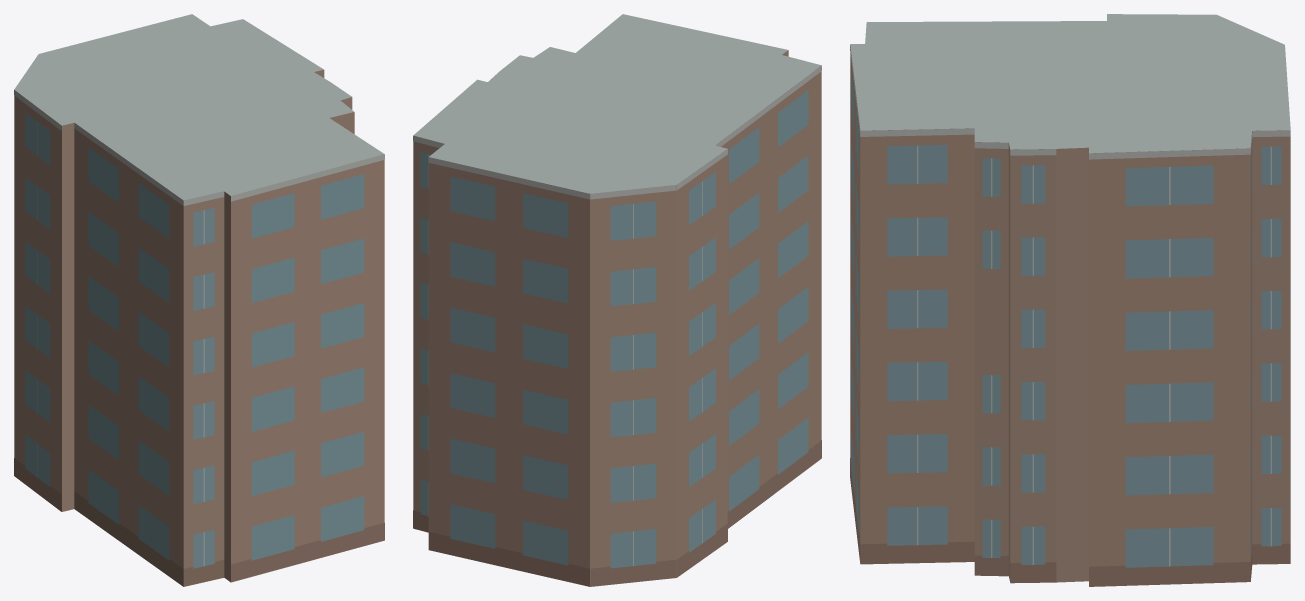
File: survey-upis-32647805.glb
3 renders of one model, left to right at view 1: azimuth 30°, elevation 25°; view 2: azimuth 150°, elevation 25°; view 3: azimuth 270°, elevation 25°, orthographic. The views are drawn at different scales.
Parts seen in each view (by area): view 1: survey-upis-32647805.tmp; view 2: survey-upis-32647805.tmp; view 3: survey-upis-32647805.tmp.
Boxes of the visible parts, <box> form: survey-upis-32647805.tmp: <box>14,14,384,586</box>; survey-upis-32647805.tmp: <box>413,14,821,586</box>; survey-upis-32647805.tmp: <box>850,14,1290,586</box>.
Size of the model in its own units: 11.58 by 16.8 by 15.48.
